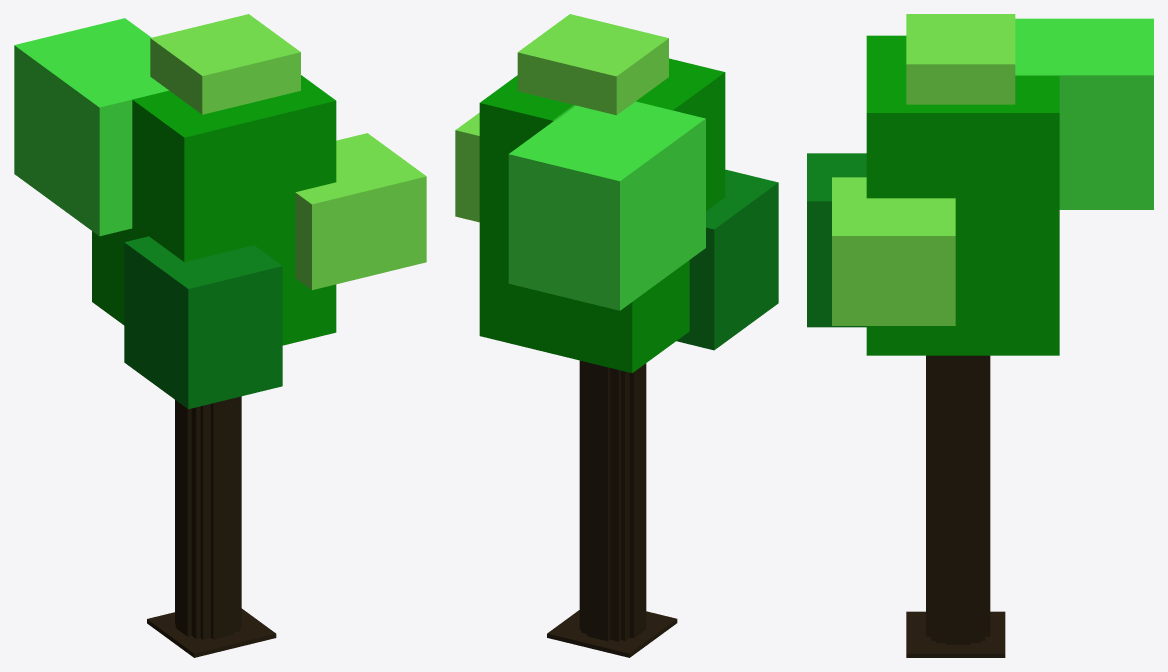
Rendered from tree_2.fbx.
The picture shows the model from 3 angles, left to right: view 1: azimuth 30°, elevation 25°; view 2: azimuth 150°, elevation 25°; view 3: azimuth 270°, elevation 25°; orthographic projection. The views are drawn at different scales.
Visible parts, largest first — view 1: Box; view 2: Box; view 3: Box.
Part boxes in pixels (left/top/right/bottom): Box: left=14, top=14, right=426, bottom=657; Box: left=455, top=14, right=778, bottom=657; Box: left=807, top=14, right=1153, bottom=657.
Size of the model in its own units: 63 by 135 by 70.
